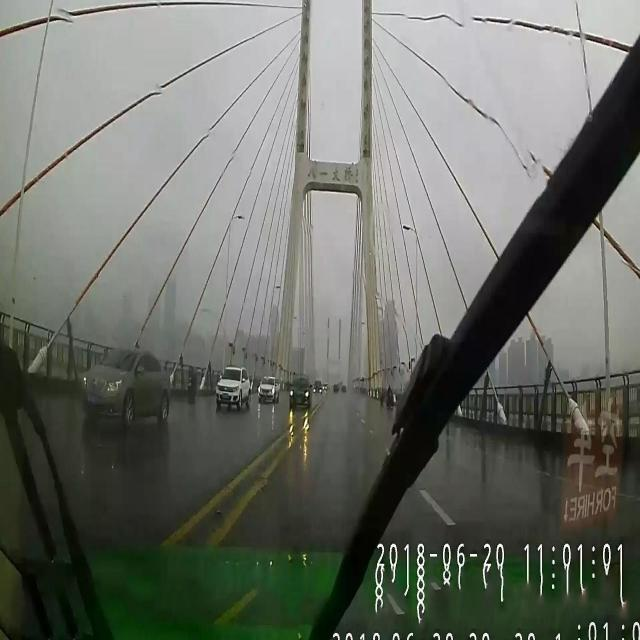car: (81, 349, 170, 428), (212, 364, 252, 411), (256, 372, 281, 406), (288, 376, 310, 412), (314, 382, 322, 392)
